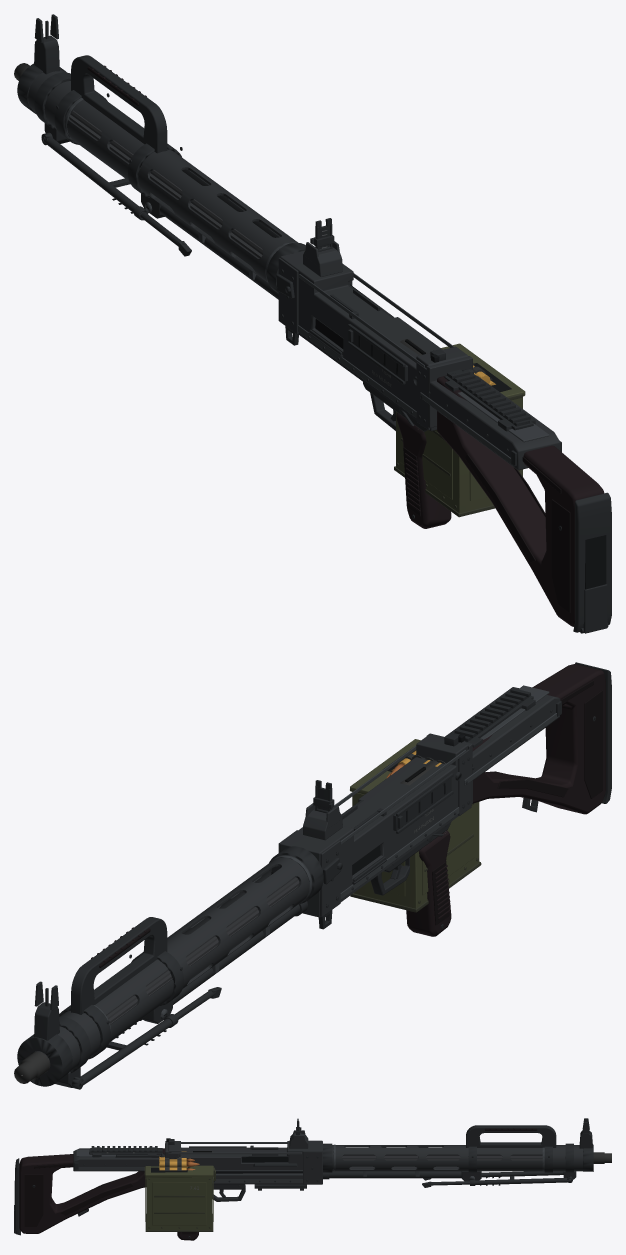
Rendered from weapon-48-gMKeVVgr.glb.
3 renders of one model, top to bottom at view 1: azimuth 30°, elevation 25°; view 2: azimuth 150°, elevation 25°; view 3: azimuth 270°, elevation 25°, orthographic. The views are drawn at different scales.
Parts seen in each view (by area): view 1: salient_weapon_body, salient_weapon_cover, salient_weapon_magazine, salient_weapon_iron; view 2: salient_weapon_body, salient_weapon_cover, salient_weapon_magazine, salient_weapon_iron; view 3: salient_weapon_body, salient_weapon_magazine, salient_weapon_cover, salient_weapon_belt.
Boxes of the visible parts, x1,y1,x2,y2 form: salient_weapon_body: [14, 35, 611, 633]; salient_weapon_cover: [413, 368, 561, 470]; salient_weapon_magazine: [394, 343, 525, 517]; salient_weapon_iron: [34, 14, 334, 251]; salient_weapon_body: [14, 662, 611, 1089]; salient_weapon_cover: [445, 685, 561, 785]; salient_weapon_magazine: [350, 739, 481, 912]; salient_weapon_iron: [34, 780, 334, 1010]; salient_weapon_body: [14, 1125, 611, 1240]; salient_weapon_magazine: [144, 1165, 215, 1231]; salient_weapon_cover: [73, 1146, 164, 1171]; salient_weapon_belt: [159, 1149, 199, 1170].
Size of the model in its own units: 0.0949 by 0.247 by 1.14.
